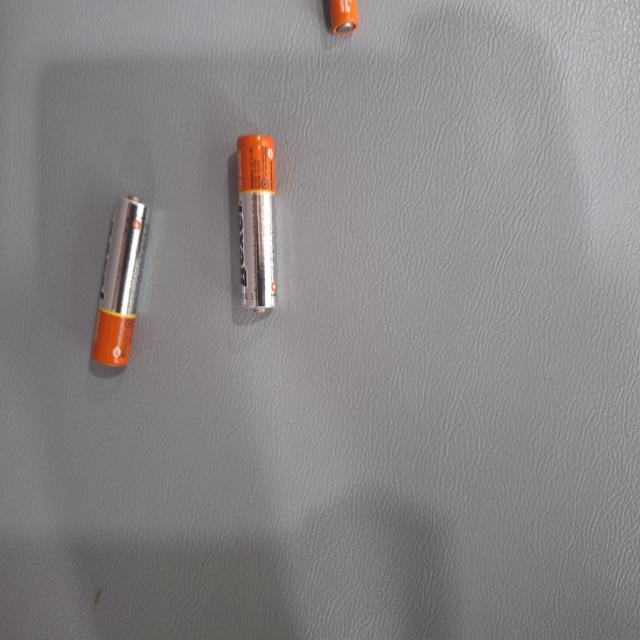AA: (102, 483, 238, 538)
AAA: (0, 374, 28, 420)
